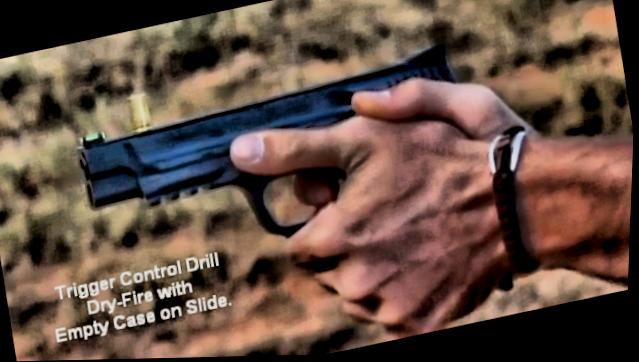pistol: (57, 27, 497, 293)
